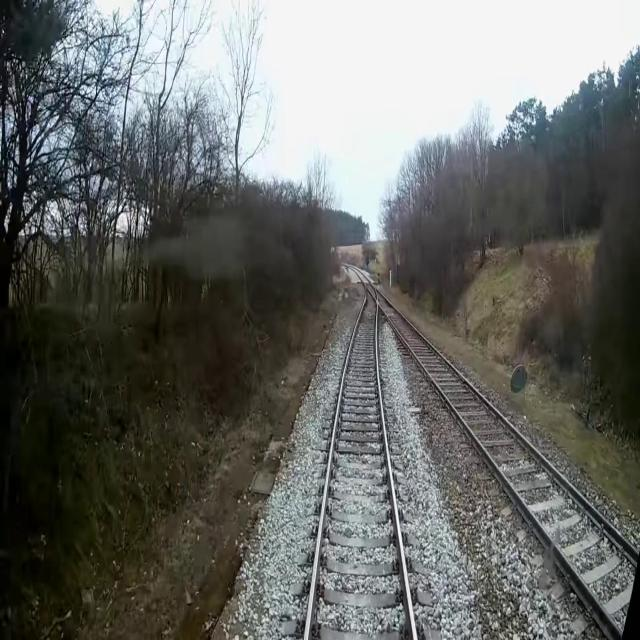rail-track: (377, 290, 637, 628), (308, 289, 413, 639)
